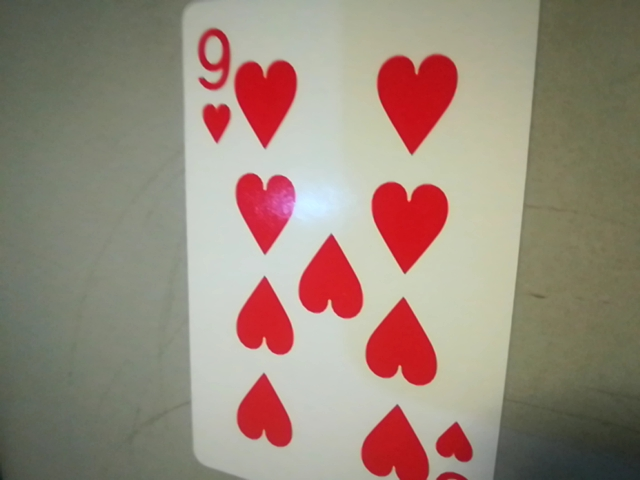hx 9: (180, 17, 235, 149)
